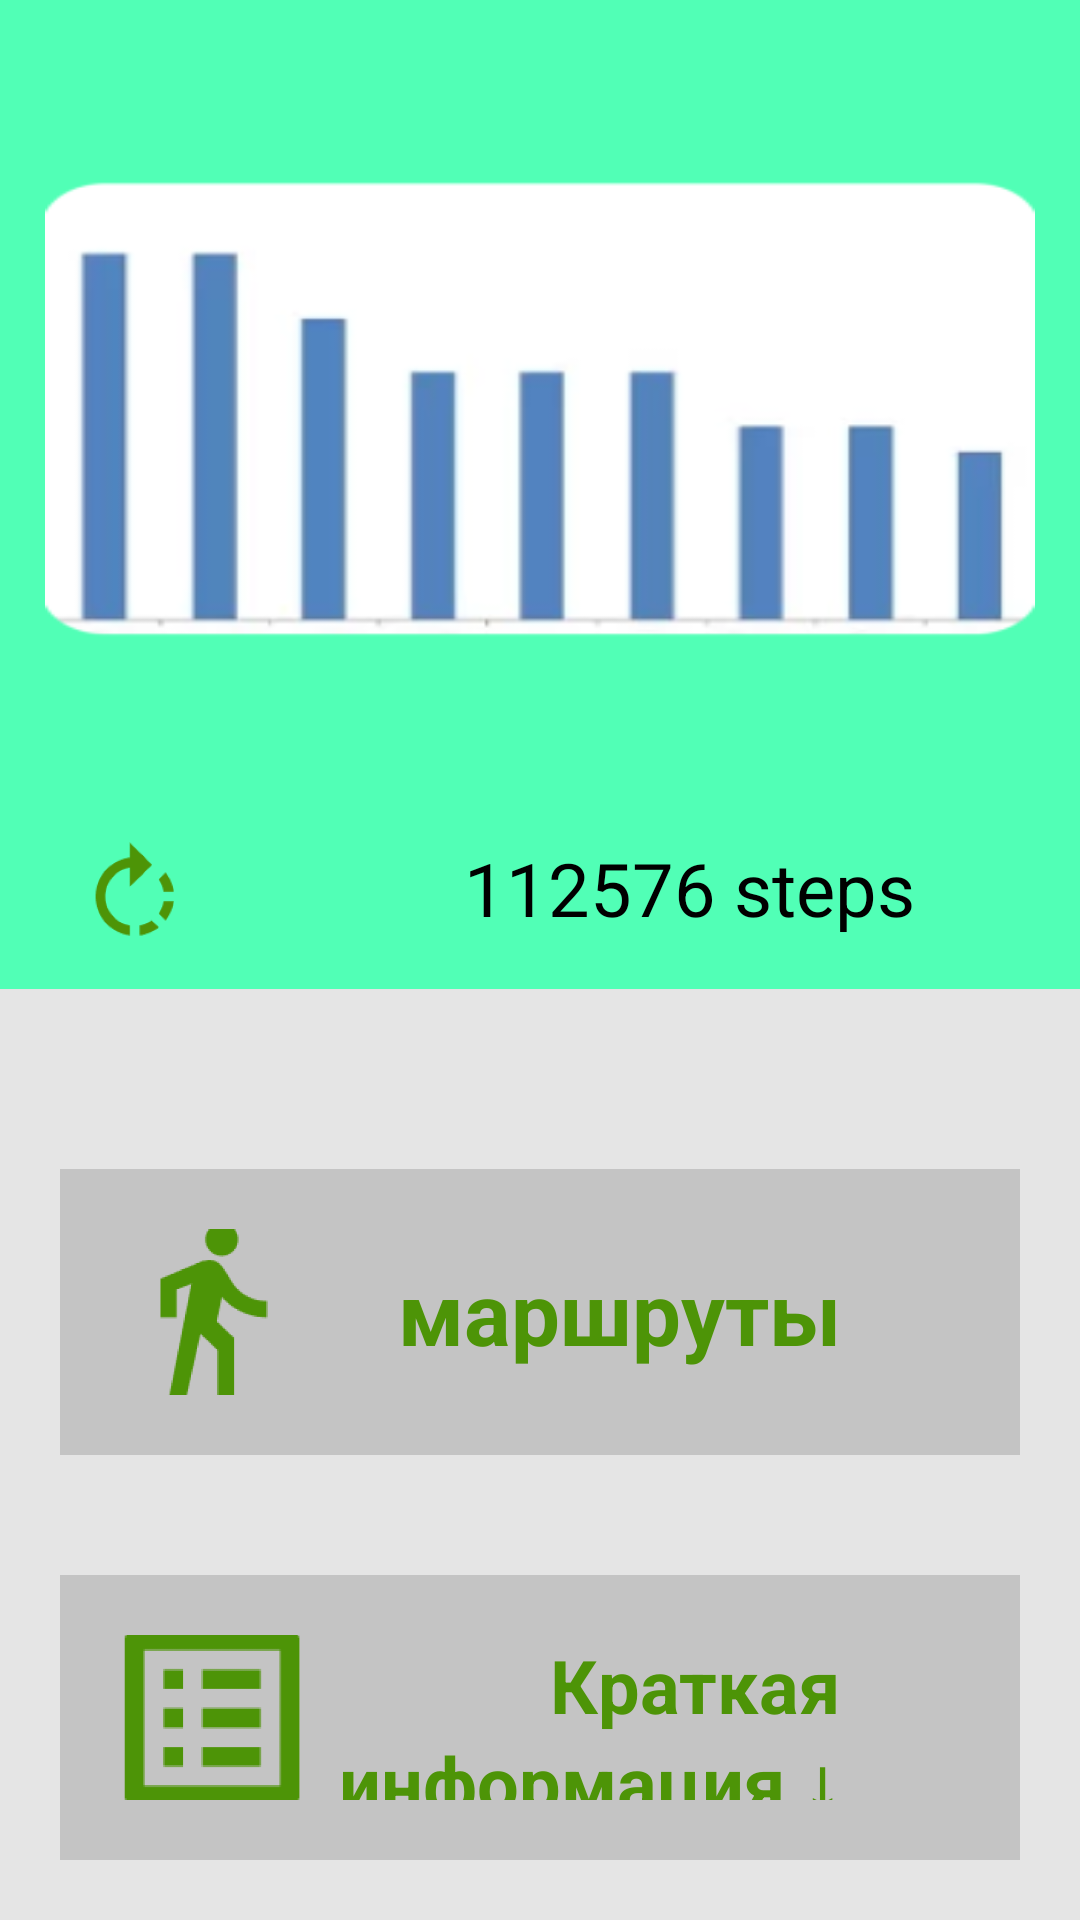

Where icons sit on this 1080px×1920px app screen, as (x1, y1, x2, y2):
description: (124, 1635, 300, 1800)
